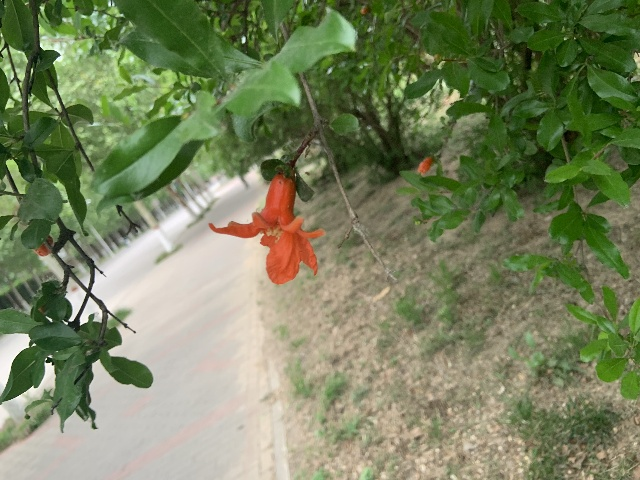bud: (34, 234, 53, 256), (417, 156, 433, 175)
flower: (207, 172, 324, 285)
